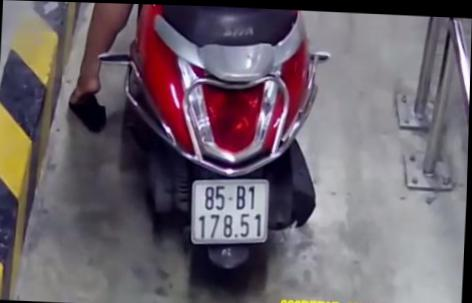LP: (190, 174, 272, 246)
